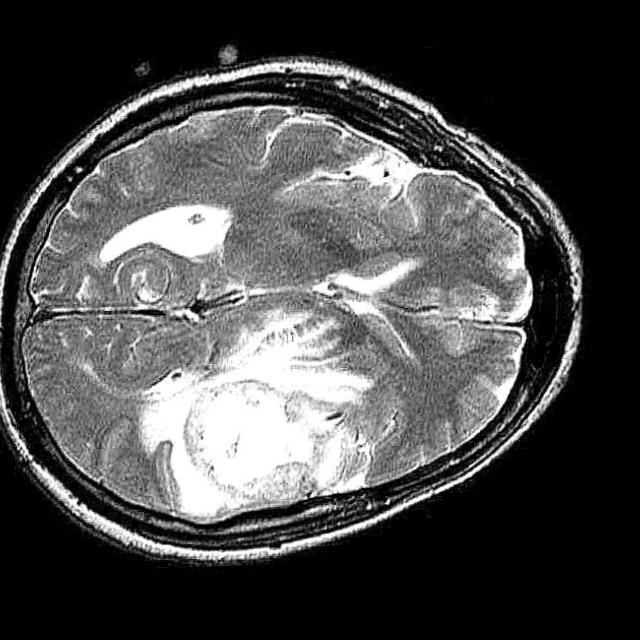Tumor: (149, 314, 377, 523)
